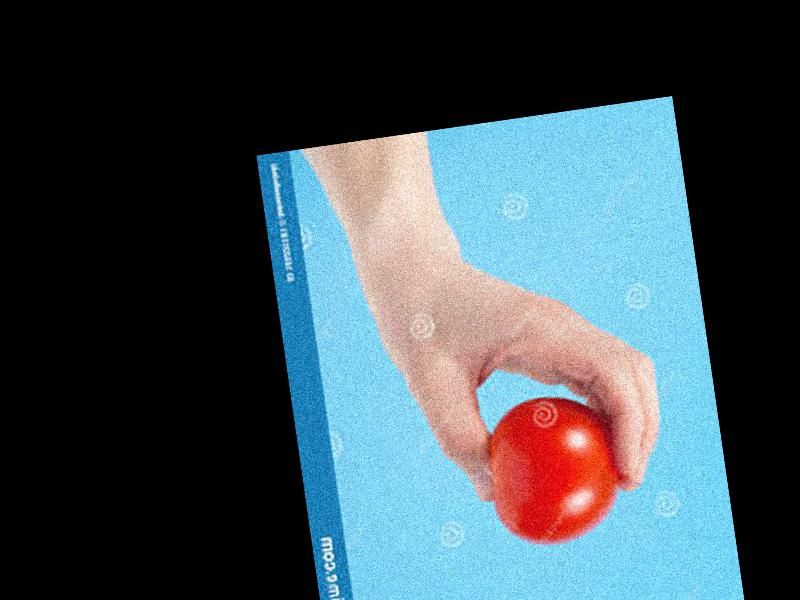Tomato: (481, 389, 629, 550)
